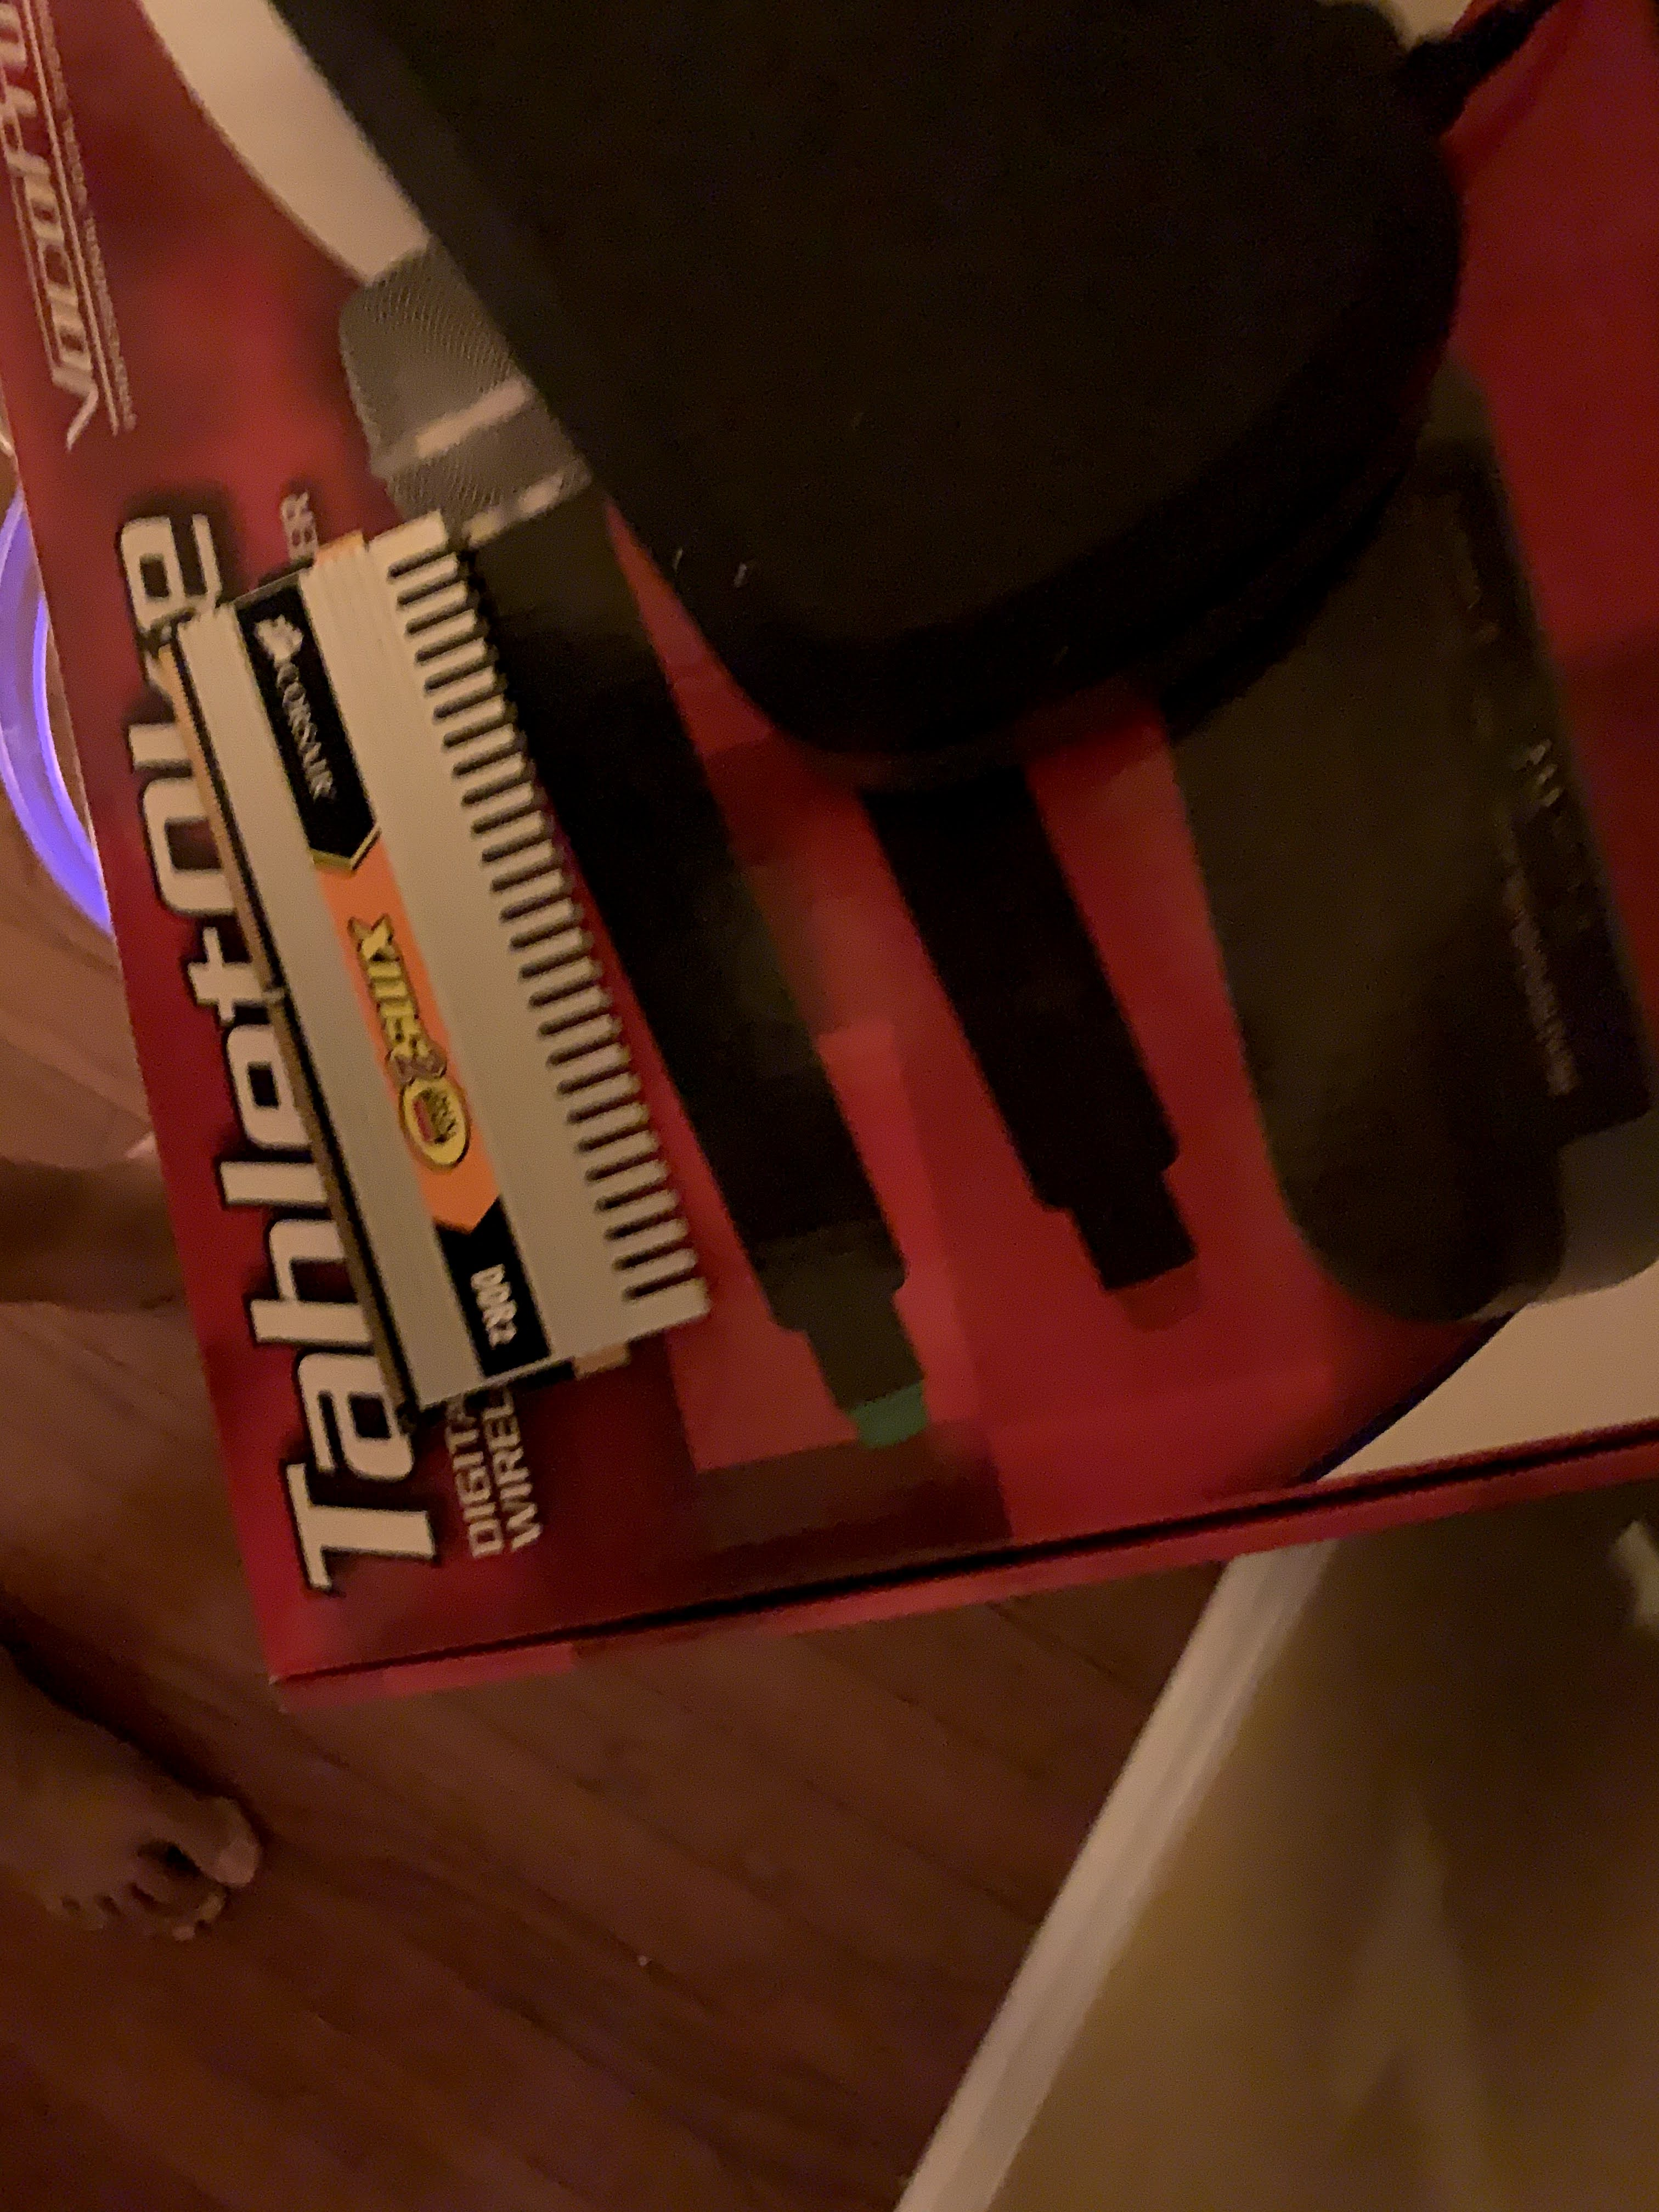Space-debris-medium: (132, 507, 730, 1433)
